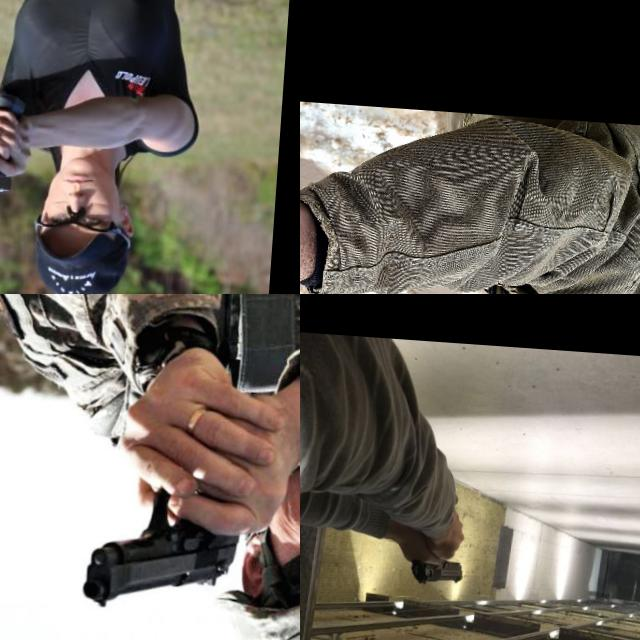handgun: (78, 482, 244, 618), (300, 241, 399, 294), (0, 138, 43, 220), (404, 554, 466, 588)
